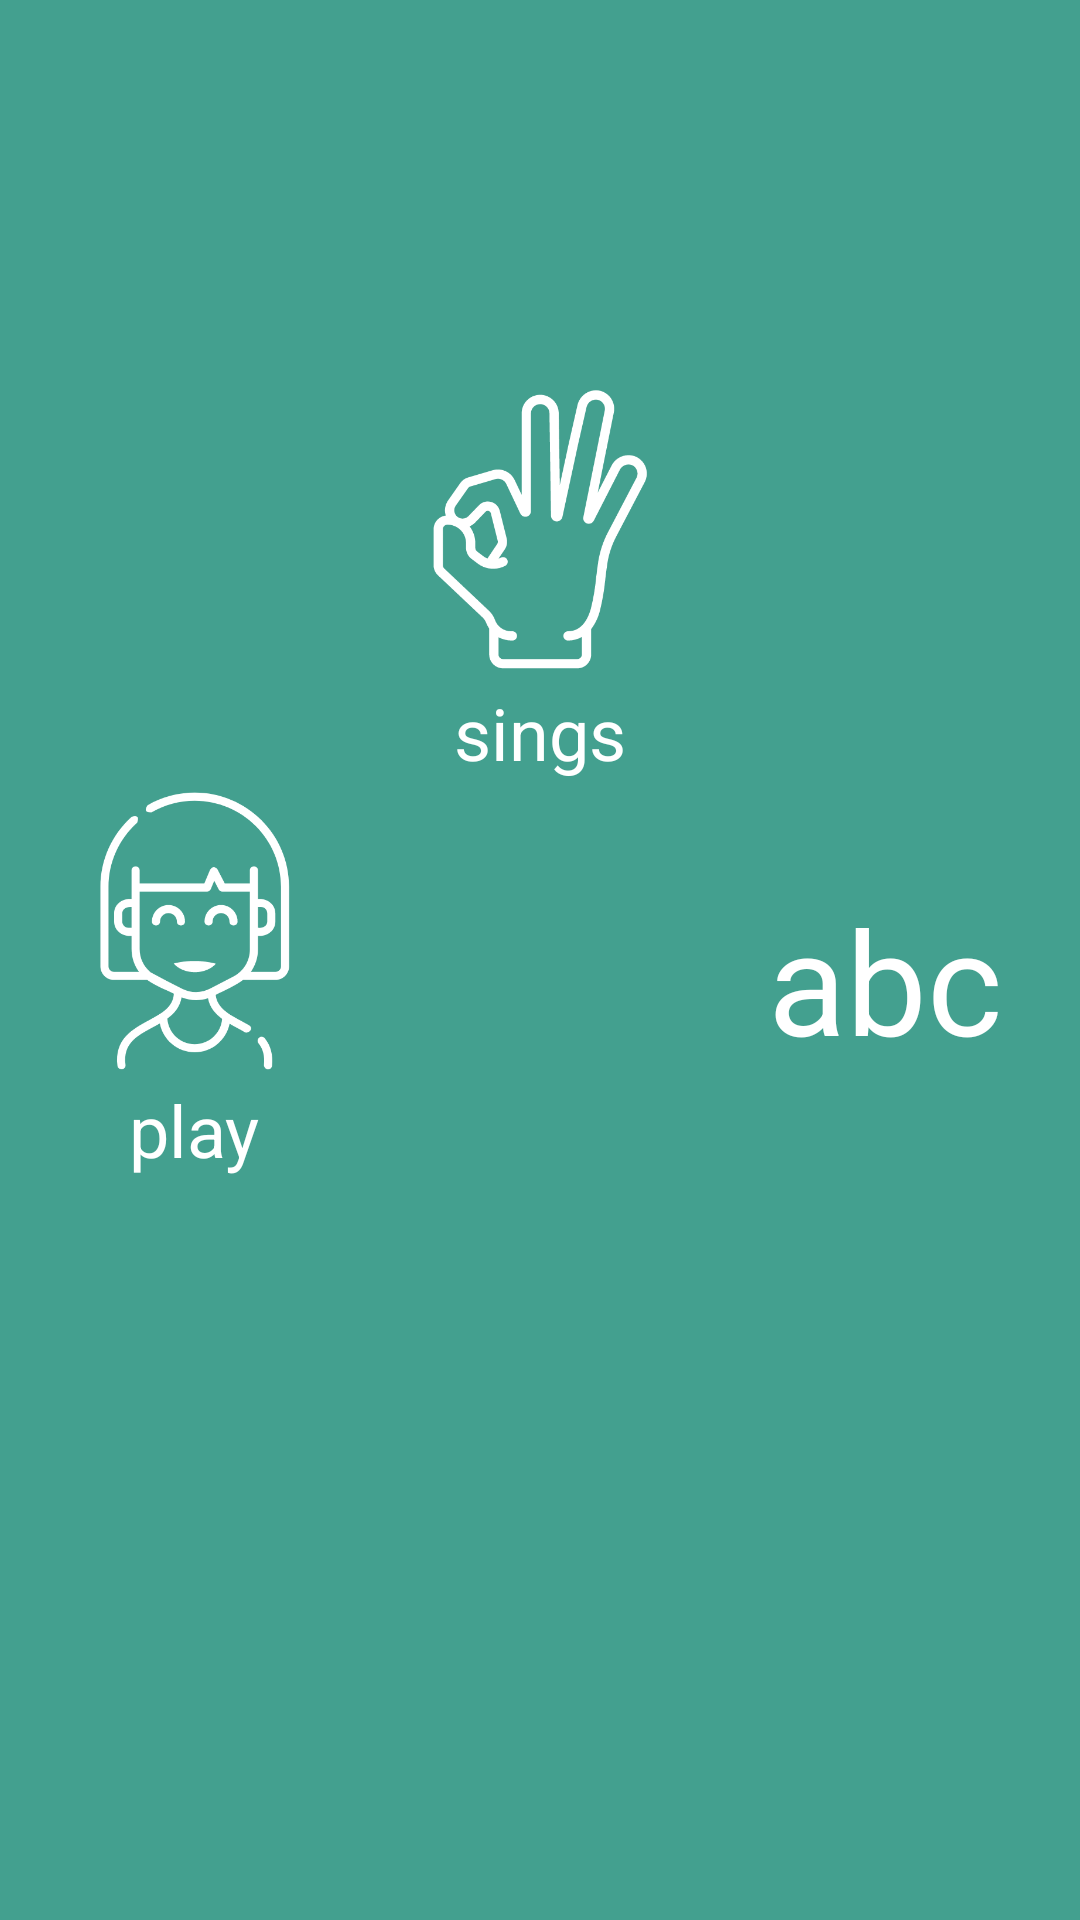

Where icons sit on this 1080×1920 app screen, as (x1, y1, x2, y2):
girl: (100, 792, 290, 1070)
hand: (433, 390, 647, 669)
